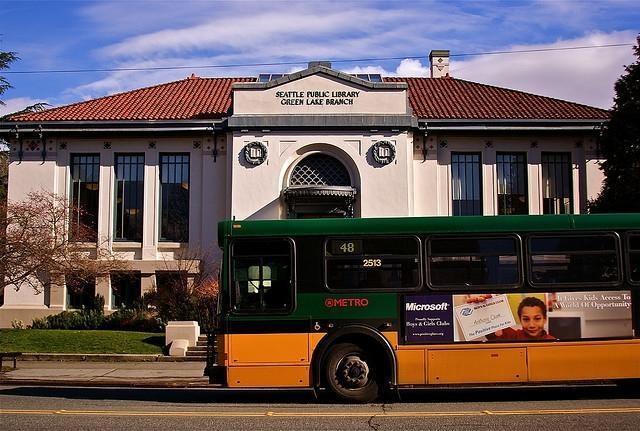bus: (215, 213, 640, 411)
